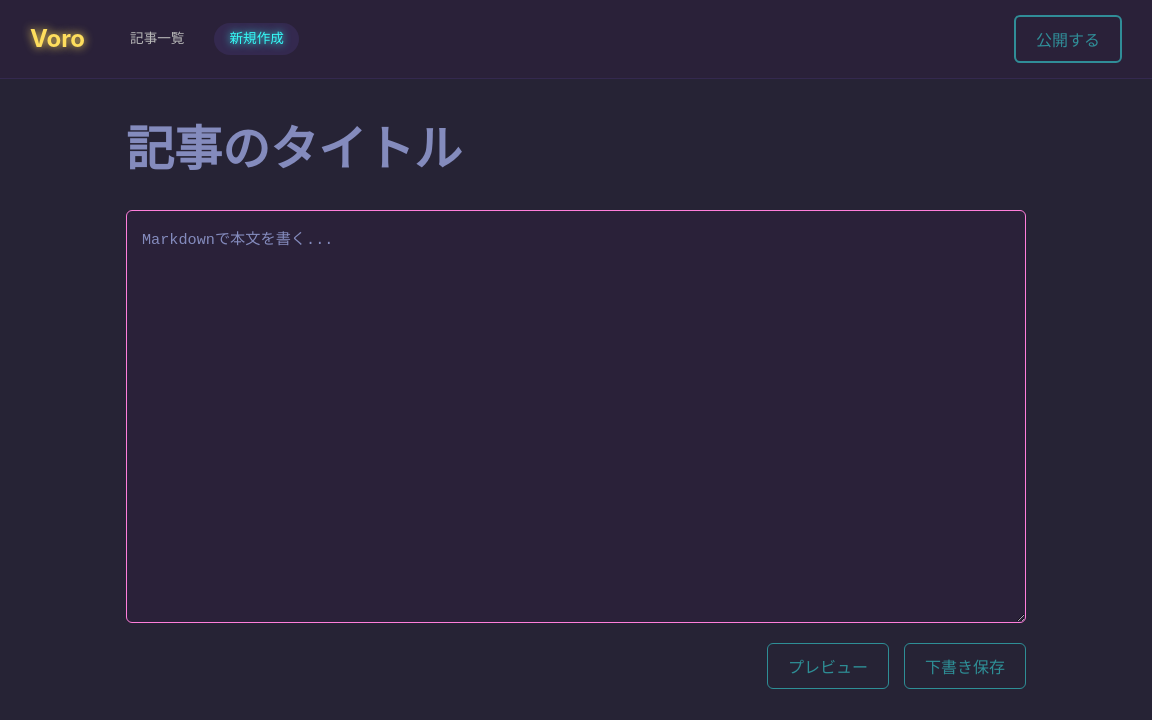
it: PostEditorPage - API Error Handling › shows error notification on server error
This screenshot has width=1152, height=720.
Type "Test Post" into the field with placeholder "記事のタイトル" at (576, 150), box [126,109,1026,190]
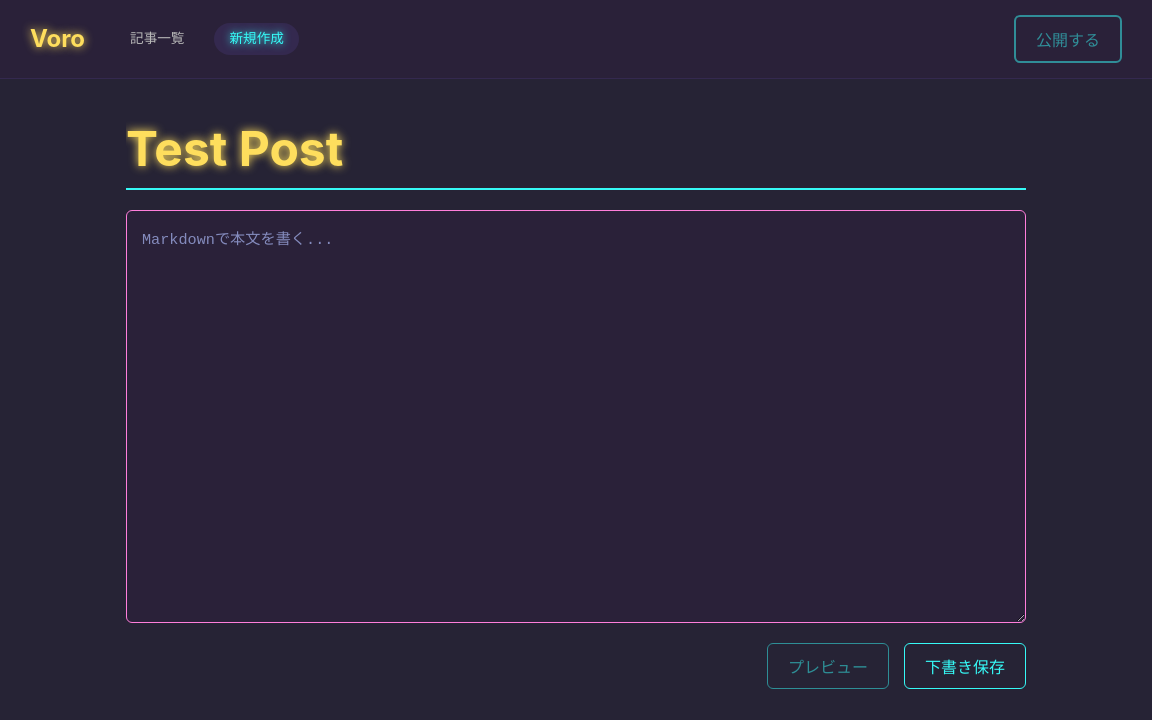
Type "Test content" into the text box with placeholder "Markdownで本文を書く..." at (576, 416), box [126,210,1026,623]
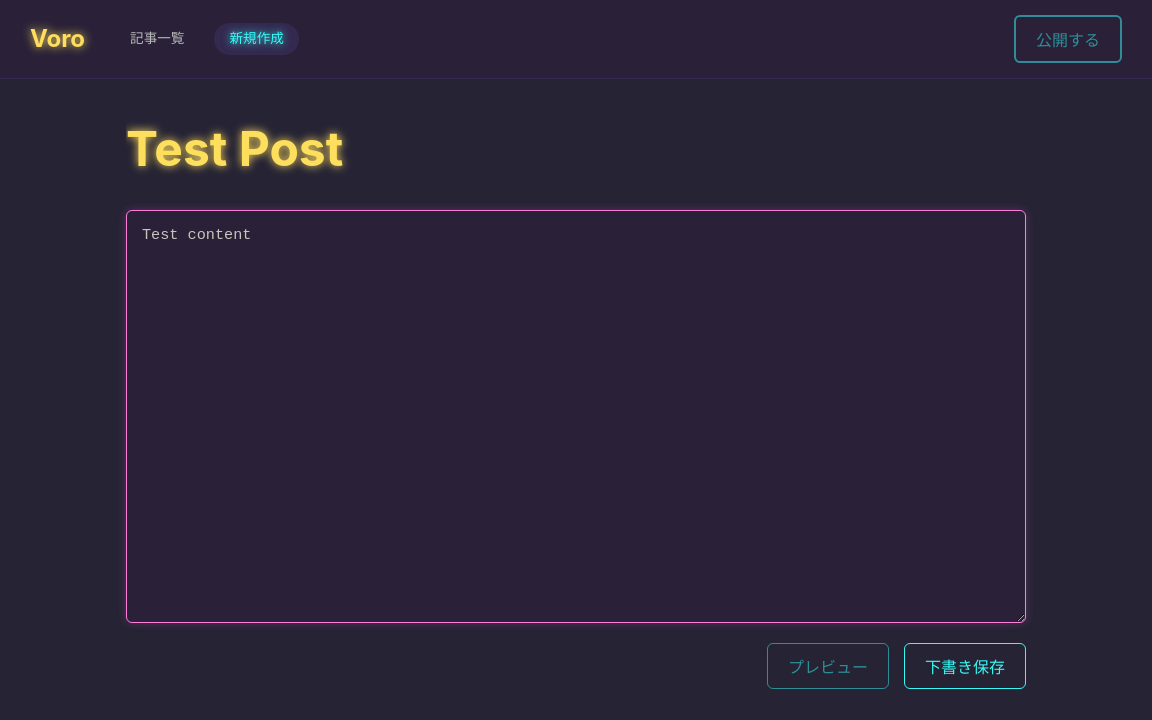
Click the button "下書き保存" at (965, 666), box [904,643,1026,689]
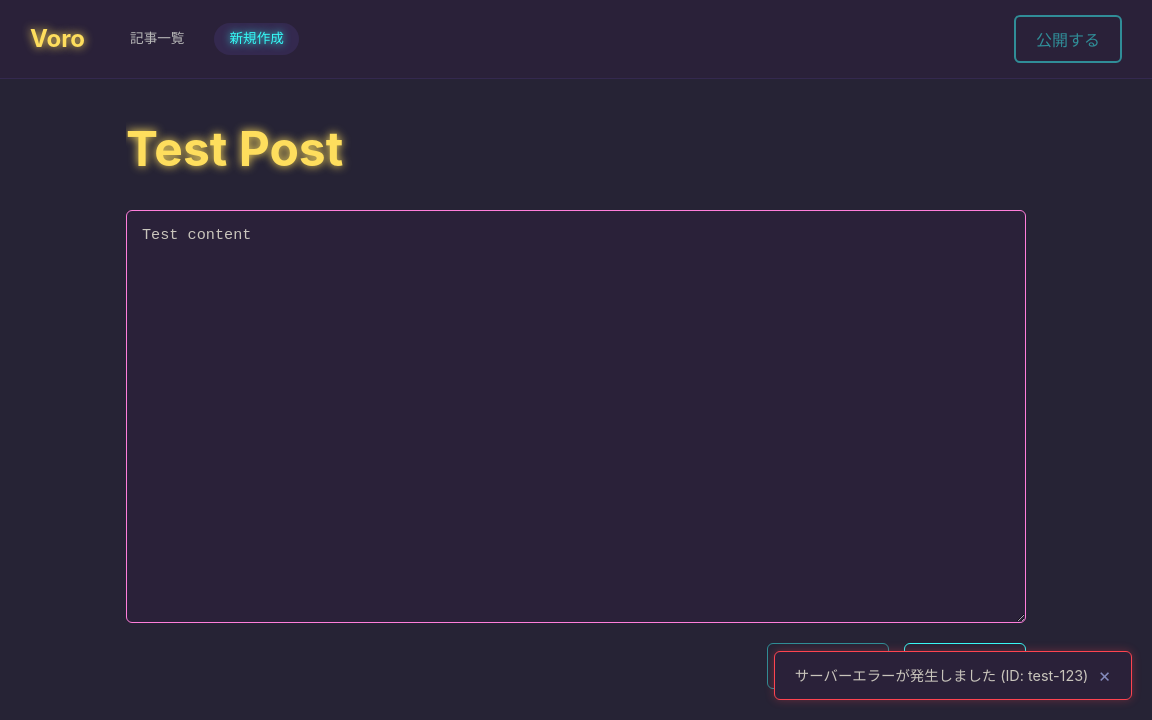
Expected: the text "サーバーエラーが発生しました (ID: test-123)" is shown, [795,664,1088,687]
